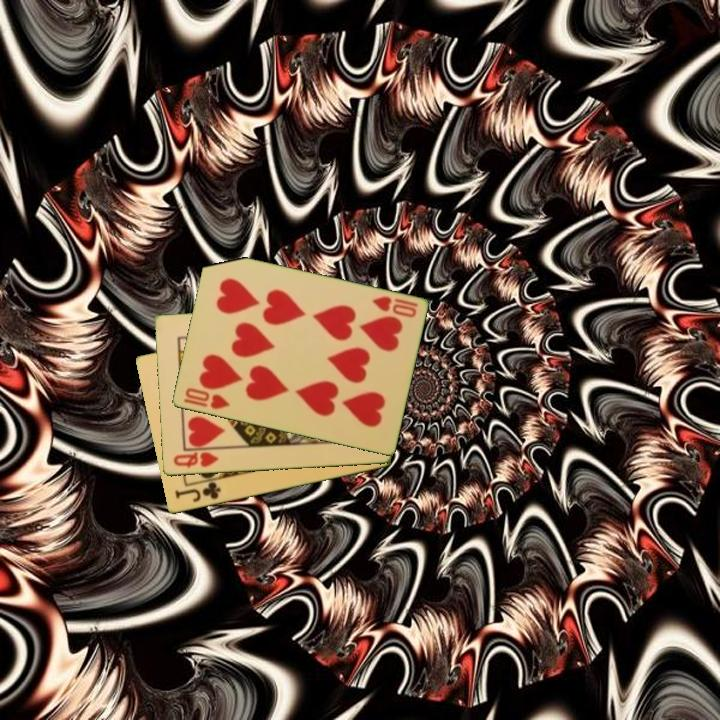10h: (181, 384, 232, 412), (369, 293, 420, 321)
Jc: (171, 479, 223, 506)
Qh: (169, 449, 221, 471)
